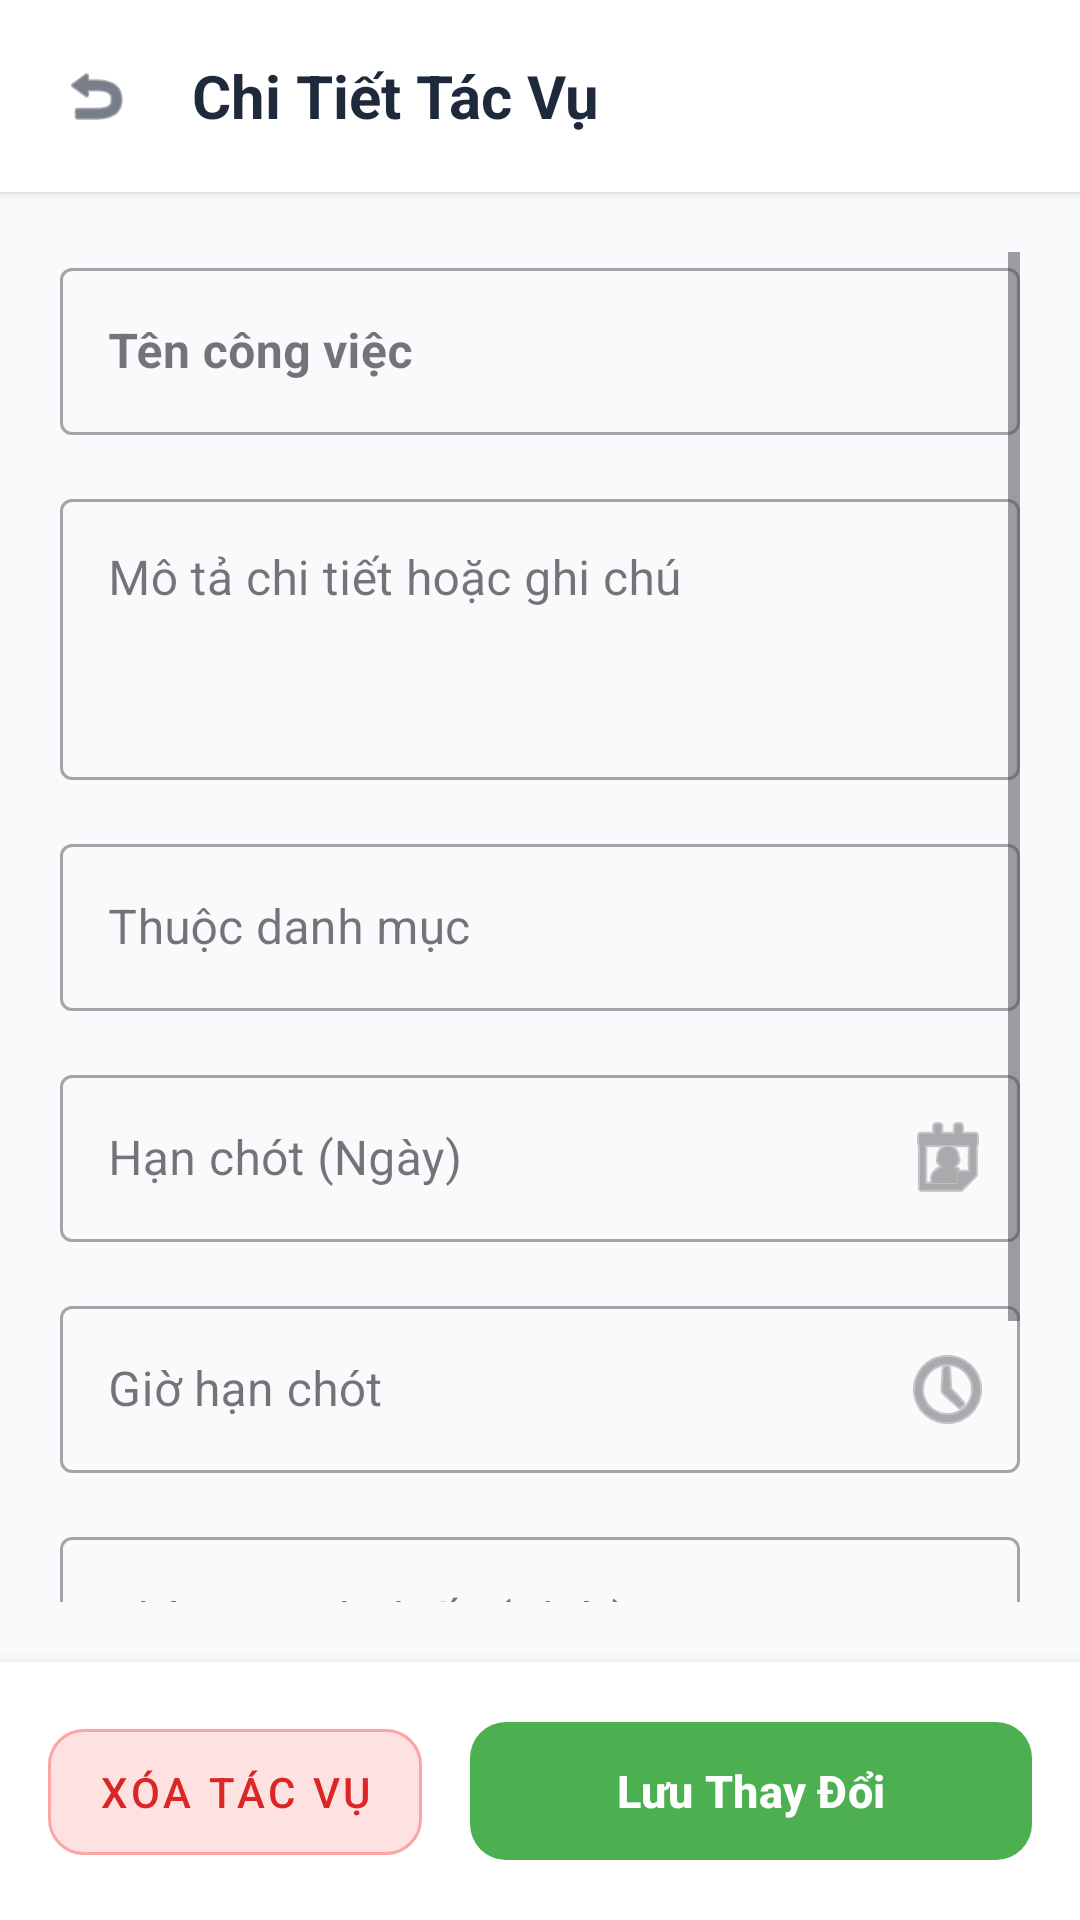

Locate icon controls on the screen. Image size 1080 x 1920, boxes as box=[x1, y1, x2, y2].
revert: box=[71, 73, 123, 120]
